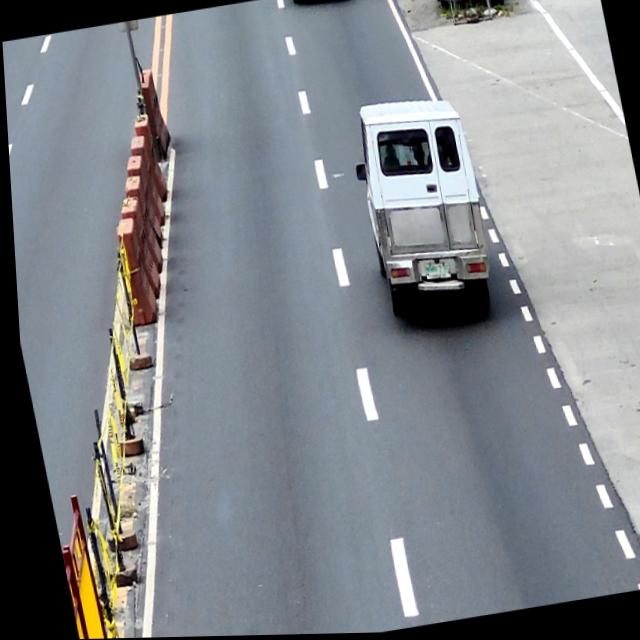Car: (342, 92, 498, 328)
License-Plate: (421, 263, 449, 284)
